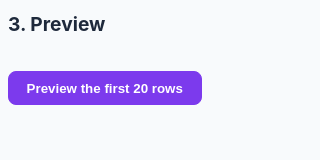
Test: PreviewPanel › shows progress and then the error
Later steps or results of the test are not shown.
Click the button "Preview the first 20 rows": (105, 88) [8,71,202,105]
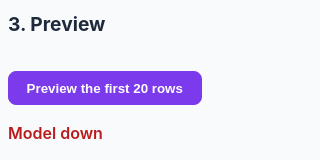
Expected: the message reads "Model down", [8,123,103,143]
